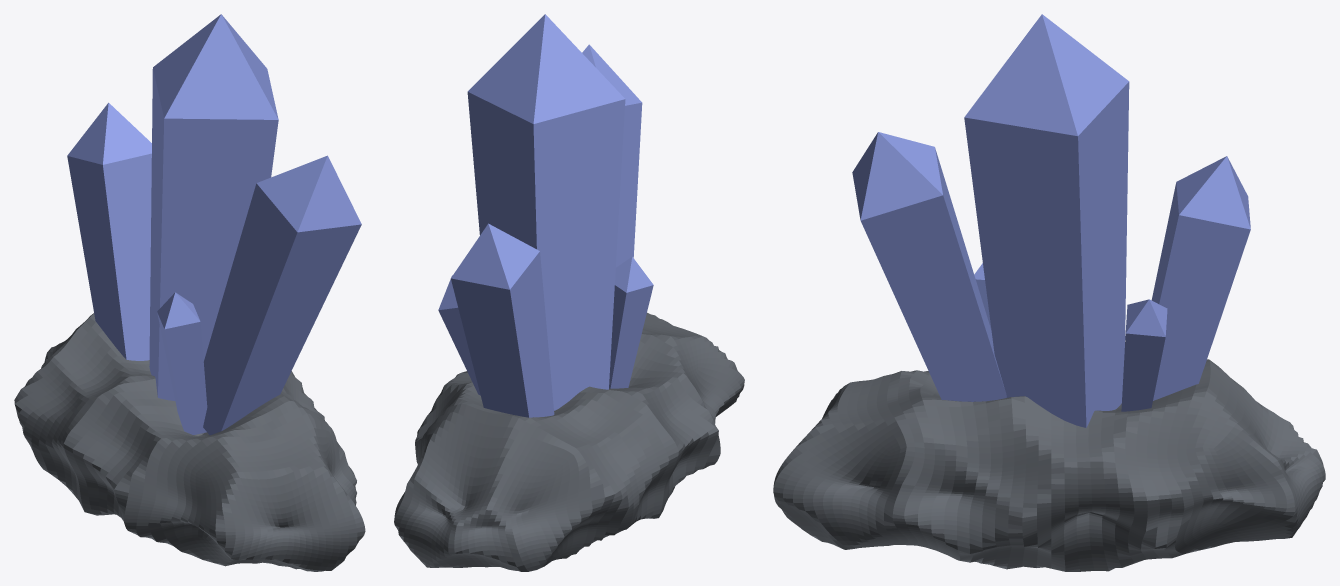
Rendered from crystal_blue.fbx.
The picture shows the model from 3 angles, left to right: view 1: azimuth 30°, elevation 25°; view 2: azimuth 150°, elevation 25°; view 3: azimuth 270°, elevation 25°; orthographic projection. The views are drawn at different scales.
Visible parts, largest first — view 1: Cube.013, Cube.015, Cube.014, Cube.012, Cube.016; view 2: Cube.013, Cube.015, Cube.012, Cube.016, Cube.014, Cube.017; view 3: Cube.013, Cube.015, Cube.014, Cube.012, Cube.017.
Boxes of the visible parts, bbox=[...] form: Cube.013: bbox=[14, 313, 365, 571]; Cube.015: bbox=[149, 14, 278, 400]; Cube.014: bbox=[203, 155, 361, 435]; Cube.012: bbox=[67, 102, 151, 360]; Cube.016: bbox=[157, 292, 207, 434]; Cube.013: bbox=[394, 312, 744, 571]; Cube.015: bbox=[467, 14, 625, 410]; Cube.012: bbox=[451, 223, 554, 417]; Cube.016: bbox=[609, 256, 653, 388]; Cube.014: bbox=[582, 44, 642, 267]; Cube.017: bbox=[438, 275, 480, 395]; Cube.013: bbox=[773, 359, 1325, 571]; Cube.015: bbox=[964, 14, 1129, 427]; Cube.014: bbox=[852, 132, 1006, 401]; Cube.012: bbox=[1151, 156, 1250, 400]; Cube.017: bbox=[1121, 299, 1167, 411].
Bounding box in the file's own units: 321 × 644 × 588.
